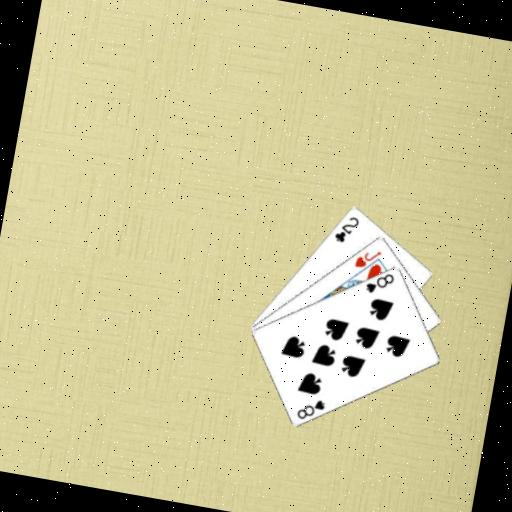2C: (330, 210, 361, 245)
8S: (361, 266, 397, 298), (293, 392, 328, 424)
JH: (351, 243, 383, 272)
